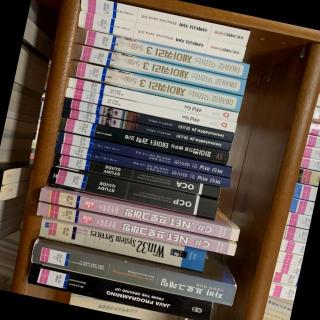book-spine: (31, 242, 236, 306), (36, 202, 236, 257), (38, 189, 240, 242), (27, 263, 213, 320), (46, 166, 218, 220), (38, 217, 206, 272), (68, 60, 242, 113), (74, 28, 249, 80), (71, 43, 246, 95), (76, 11, 245, 61), (55, 131, 232, 178), (54, 143, 231, 189), (58, 117, 229, 164), (78, 0, 250, 46), (67, 77, 238, 122), (65, 87, 236, 132), (62, 97, 233, 142), (53, 153, 220, 199), (62, 107, 231, 152)
